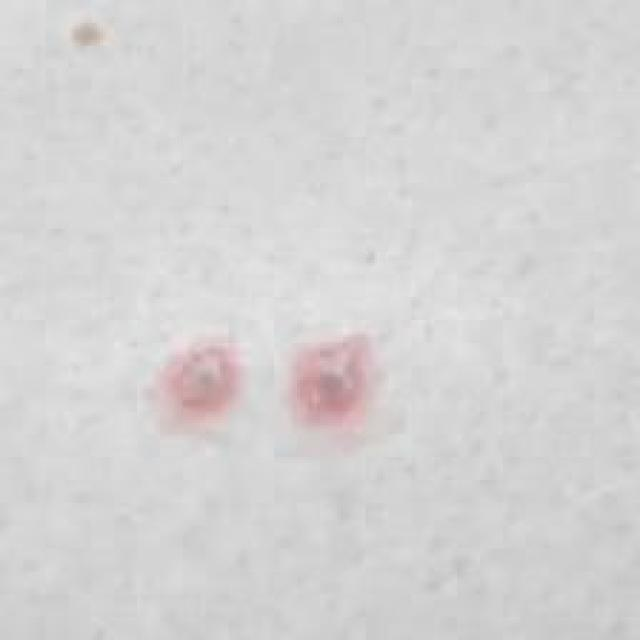monkeypox: (3, 0, 476, 587)
